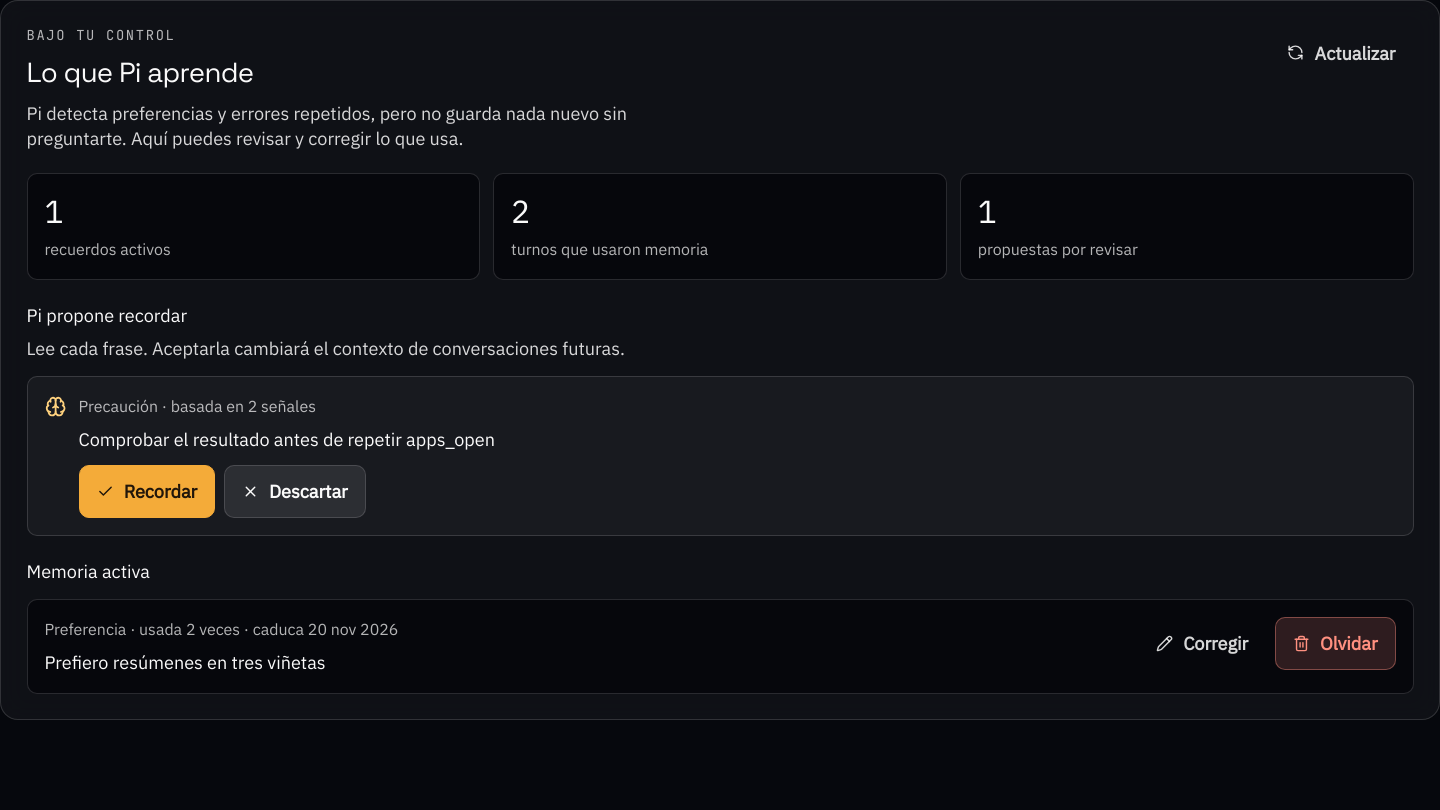
Test: LearningPanel › accepts a proposal only after an explicit click
Click the button "Recordar": (147, 492) [78,465,215,518]
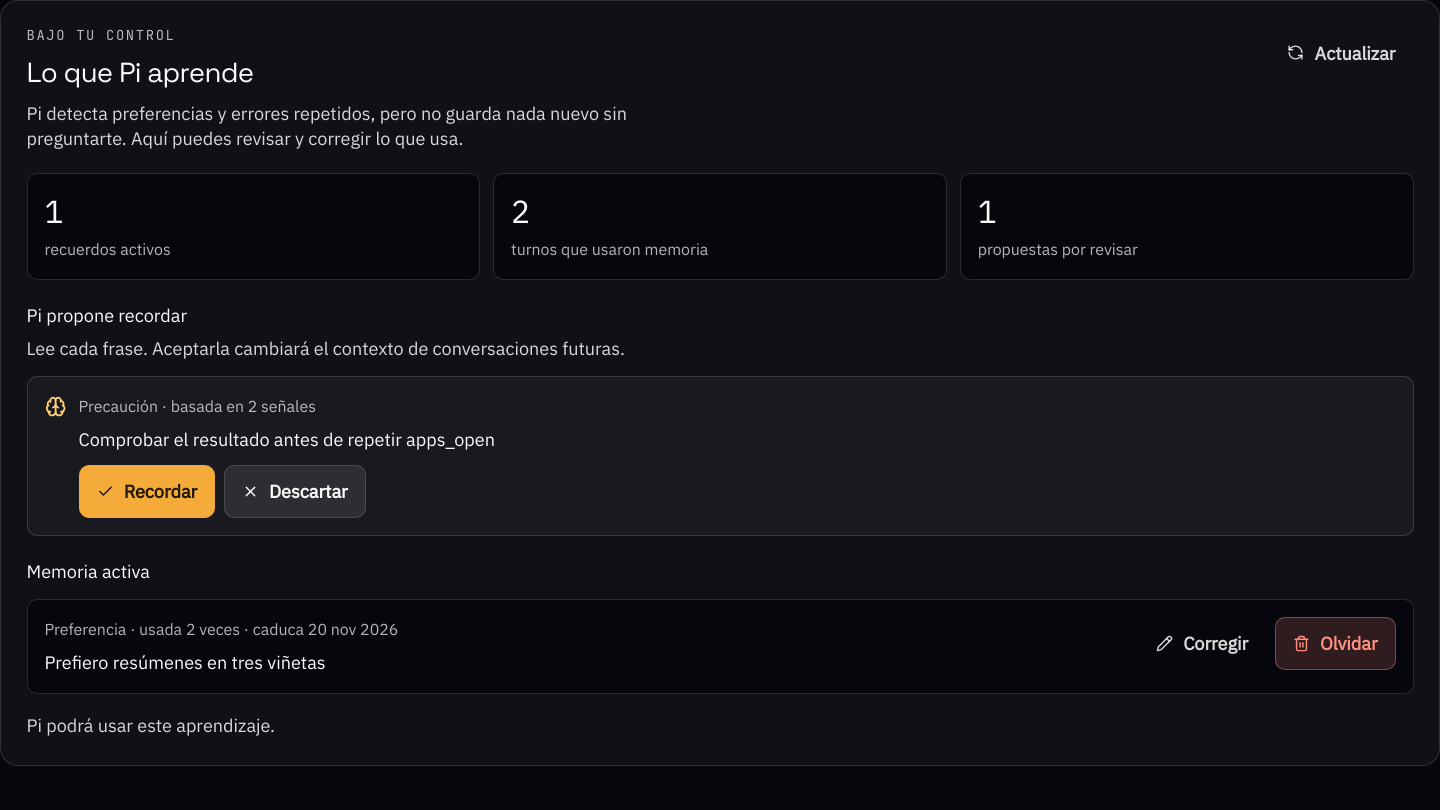
Check: the text "Pi podrá usar este aprendizaje." is shown, box [26,713,275,737]
